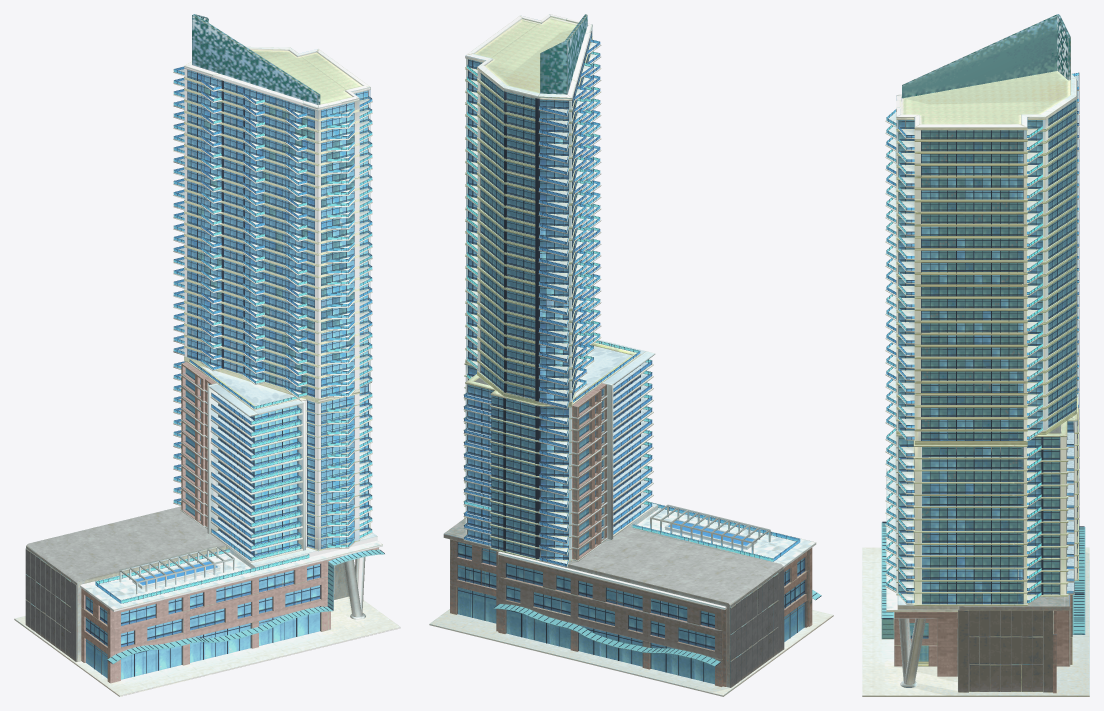
Rendered from Monogram_Building_GLB_Optimized.glb.
3 renders of one model, left to right at view 1: azimuth 30°, elevation 25°; view 2: azimuth 150°, elevation 25°; view 3: azimuth 270°, elevation 25°, orthographic. The views are drawn at different scales.
Visible parts, largest first — view 1: Monogram_Building_Opt; view 2: Monogram_Building_Opt; view 3: Monogram_Building_Opt.
Part boxes in pixels (left/top/right/bottom): Monogram_Building_Opt: left=14, top=14, right=400, bottom=696; Monogram_Building_Opt: left=429, top=14, right=833, bottom=696; Monogram_Building_Opt: left=862, top=14, right=1089, bottom=696.
Bounding box in the file's own units: 195 × 382 × 127.
1 material, 1 textured.
